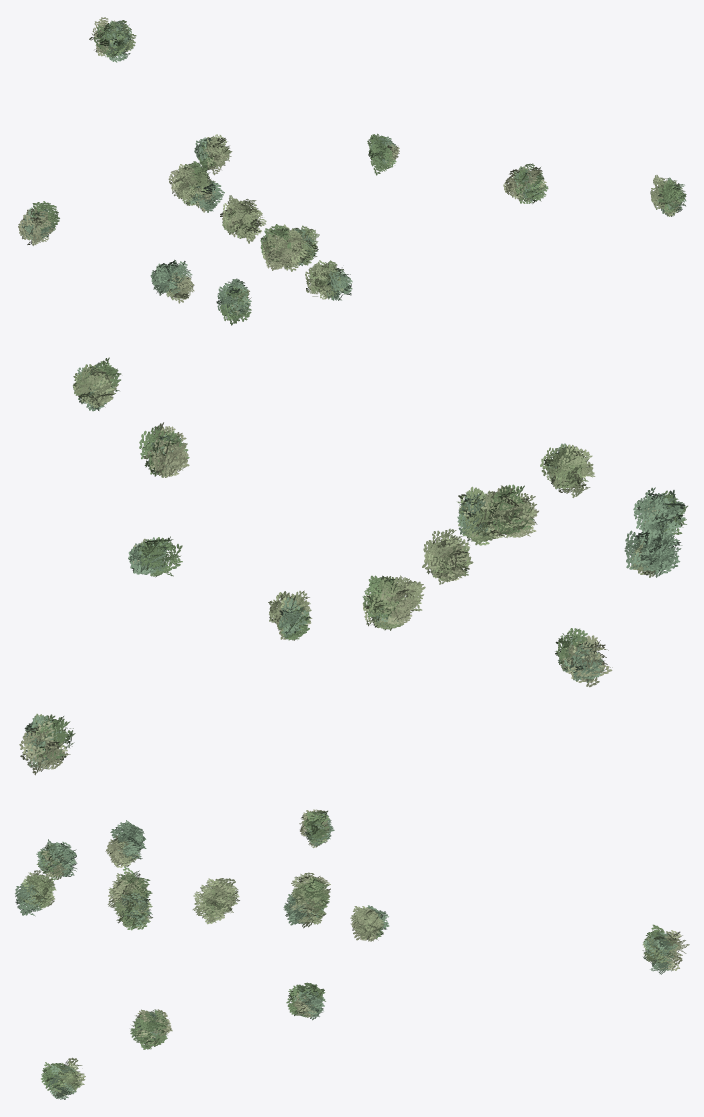
The model's file is campus-tree-2_-2-middle.glb.
3 renders of one model, top to bottom at view 1: azimuth 30°, elevation 25°; view 2: azimuth 150°, elevation 25°; view 3: azimuth 270°, elevation 25°, orthographic. The views are drawn at different scales.
Visible parts, largest first — view 1: Campus leaf canopy; view 2: Campus leaf canopy; view 3: Campus leaf canopy.
Part boxes in pixels (x1=…): Campus leaf canopy: x1=18, y1=17, x2=686, y2=325; Campus leaf canopy: x1=19, y1=357, x2=687, y2=775; Campus leaf canopy: x1=15, y1=809, x2=689, y2=1099.
Bounding box in the file's own units: 76.62 × 7.56 × 81.89.
Materials: 1 (1 with a texture image).
